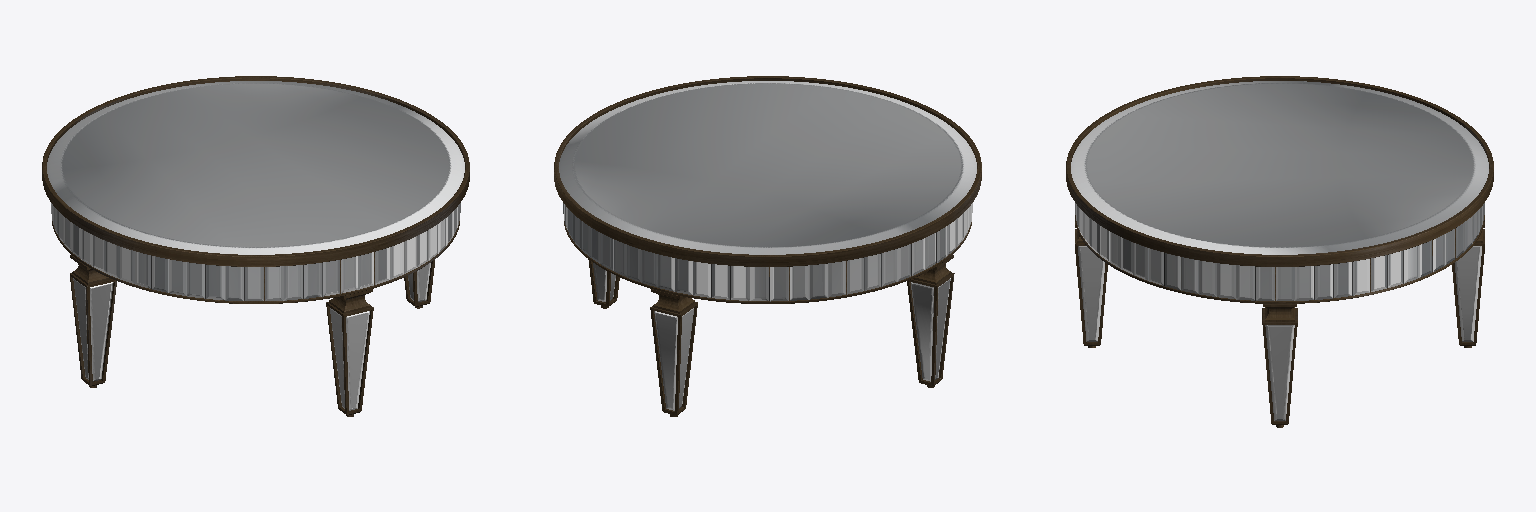
3 renders of one model, left to right at view 1: azimuth 30°, elevation 25°; view 2: azimuth 150°, elevation 25°; view 3: azimuth 270°, elevation 25°, orthographic.
Visible parts, largest first — view 1: solid_002, solid_003, solid_004; view 2: solid_002, solid_003, solid_004; view 3: solid_002, solid_003, solid_004.
Part boxes in pixels (bbox=[...]): solid_002: bbox=[47, 81, 464, 300]; solid_003: bbox=[42, 76, 469, 416]; solid_004: bbox=[73, 263, 430, 410]; solid_002: bbox=[559, 81, 976, 301]; solid_003: bbox=[554, 76, 981, 416]; solid_004: bbox=[593, 263, 950, 410]; solid_002: bbox=[1071, 81, 1488, 300]; solid_003: bbox=[1066, 76, 1493, 427]; solid_004: bbox=[1078, 246, 1481, 420].
Bounding box in the file's own units: 2 × 0.9346 × 2.
Materials: 1 (1 with a texture image).